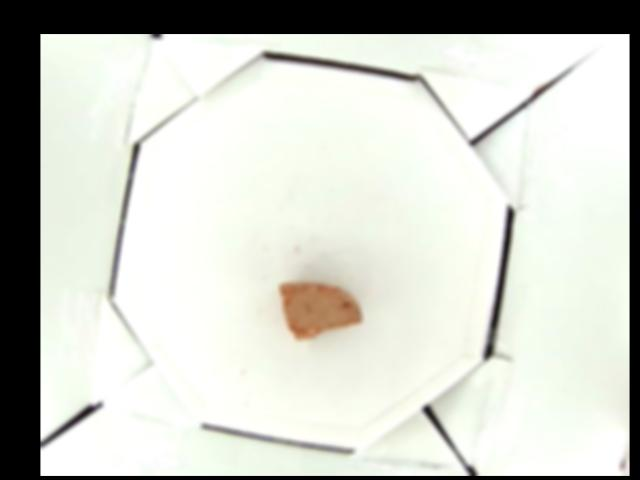Brisk: (279, 281, 363, 340)
